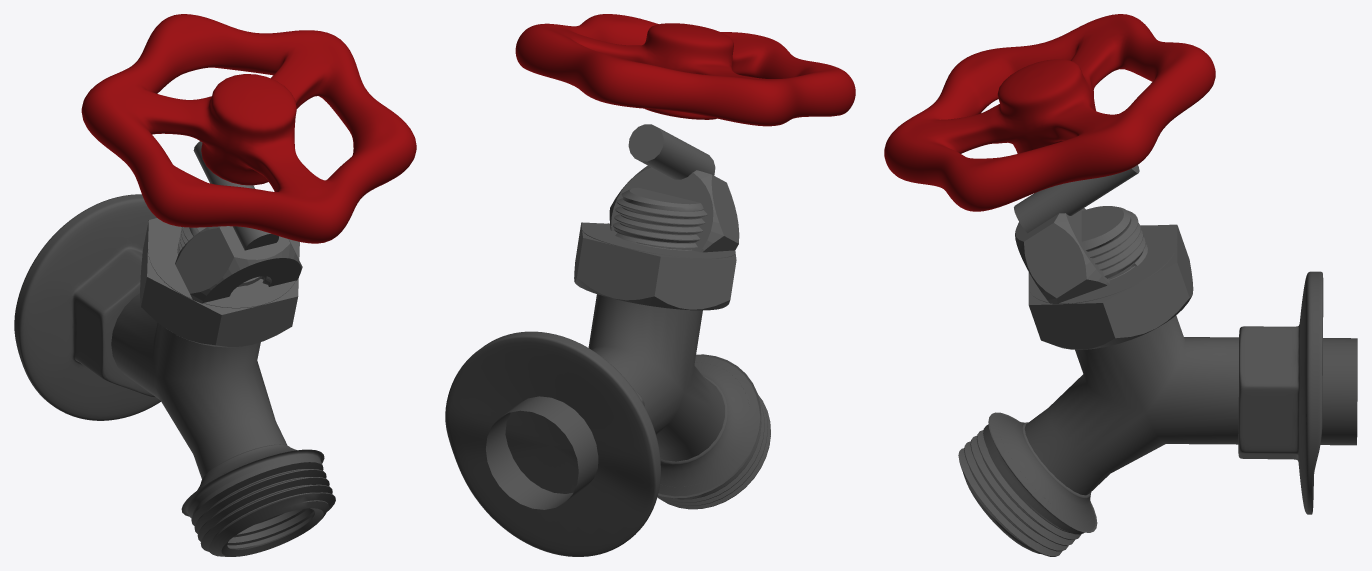
The model's file is HozeNozzle.fbx.
3 views of the same model, side by side, from view 1: azimuth 30°, elevation 25°; view 2: azimuth 150°, elevation 25°; view 3: azimuth 270°, elevation 25° (orthographic).
Visible parts, largest first — view 1: Faucet Handle, Cylinder, Wye Joint, Nozzle, Bolt, Nut, Faucet Stem; view 2: Cylinder, Faucet Handle, Wye Joint, Bolt, Nozzle, Nut, Faucet Stem; view 3: Faucet Handle, Wye Joint, Bolt, Cylinder, Nozzle, Nut, Faucet Stem.
Boxes of the visible parts, x1,y1,x2,y2 form: Faucet Handle: (81,14,416,243); Cylinder: (14,194,160,420); Wye Joint: (111,293,287,478); Nozzle: (181,444,335,556); Bolt: (140,218,299,347); Nut: (175,226,302,303); Faucet Stem: (193,141,278,250); Cylinder: (445,331,660,556); Faucet Handle: (515,14,855,126); Wye Joint: (486,294,724,509); Bolt: (574,187,736,310); Nozzle: (657,354,770,509); Nut: (609,165,739,252); Faucet Stem: (628,124,715,179); Faucet Handle: (884,14,1215,211); Wye Joint: (1024,315,1357,495); Bolt: (1028,206,1193,349); Cylinder: (1238,271,1323,514); Nozzle: (958,412,1097,556); Nut: (1015,208,1109,303); Faucet Stem: (1014,165,1139,233).
Size of the model in its own units: 345 by 616 by 532.
